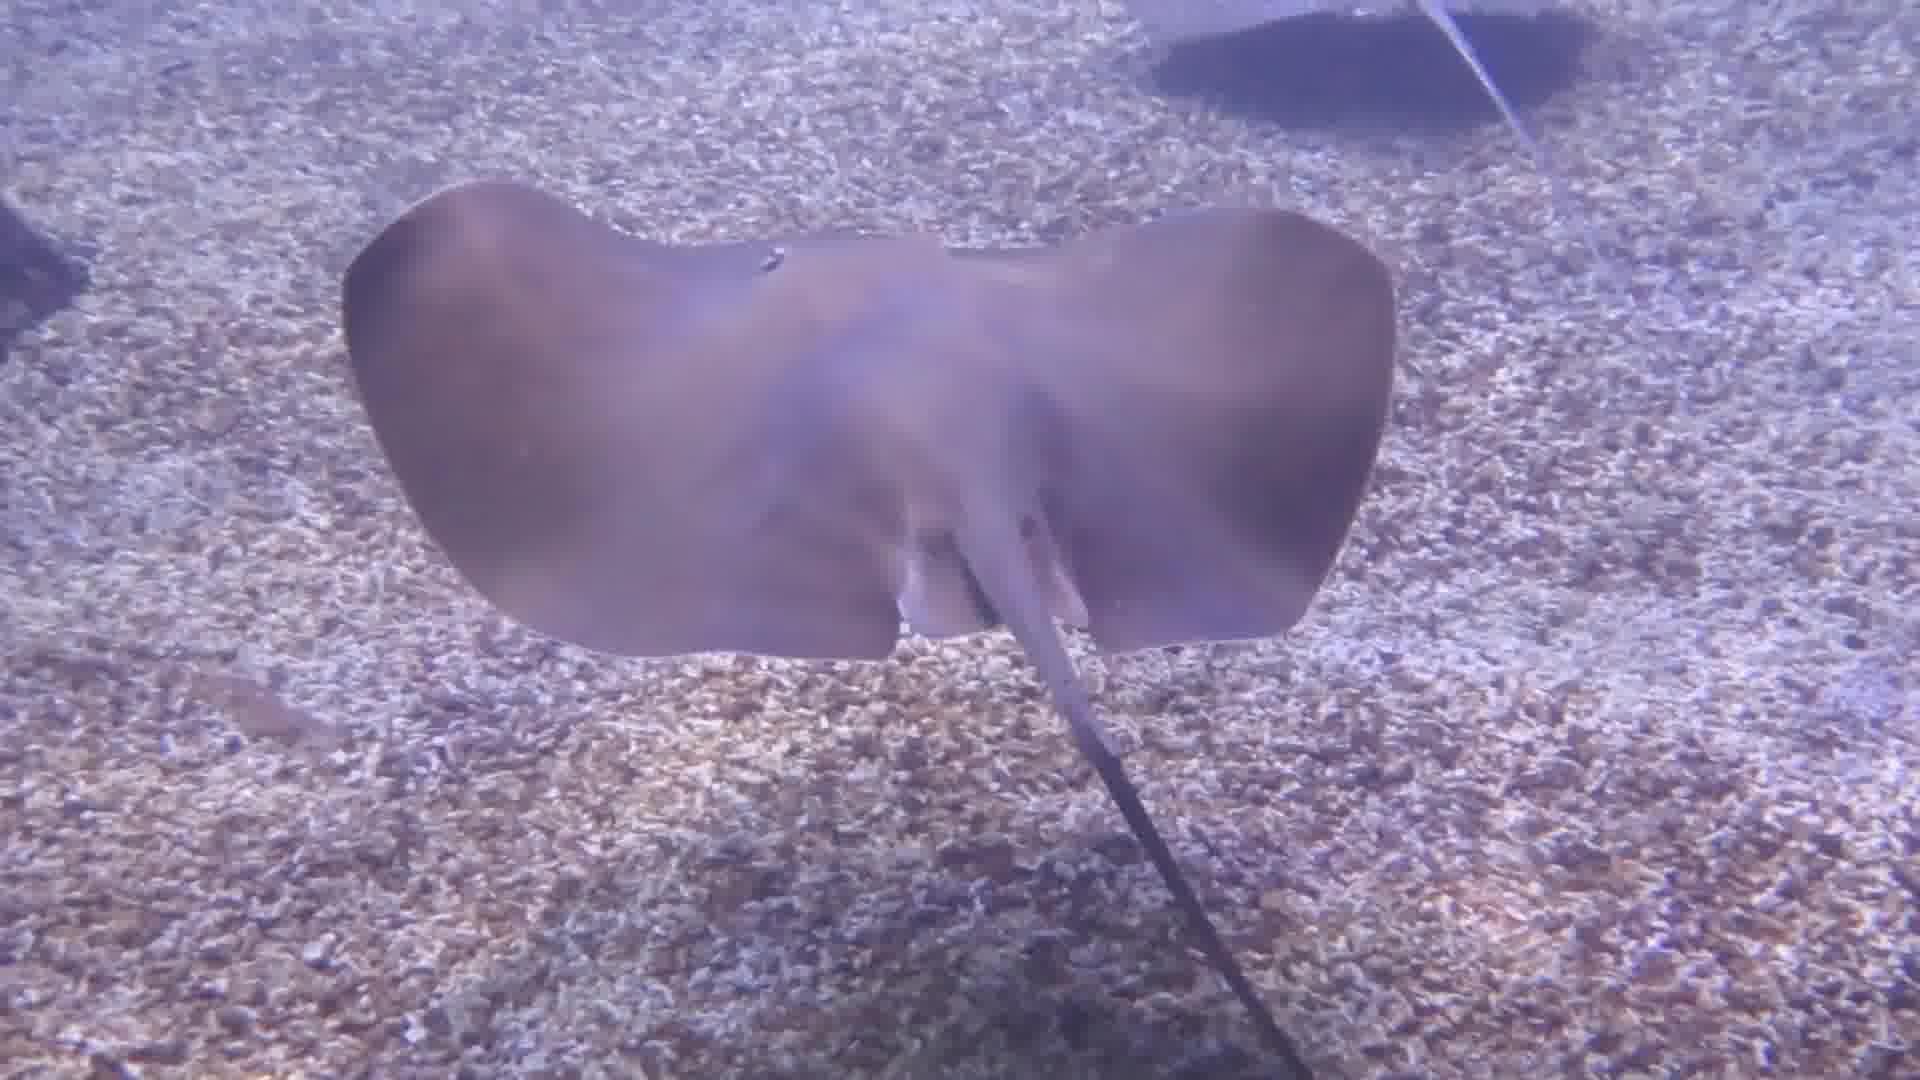Dasyatis akajei: (301, 174, 1424, 1069)
